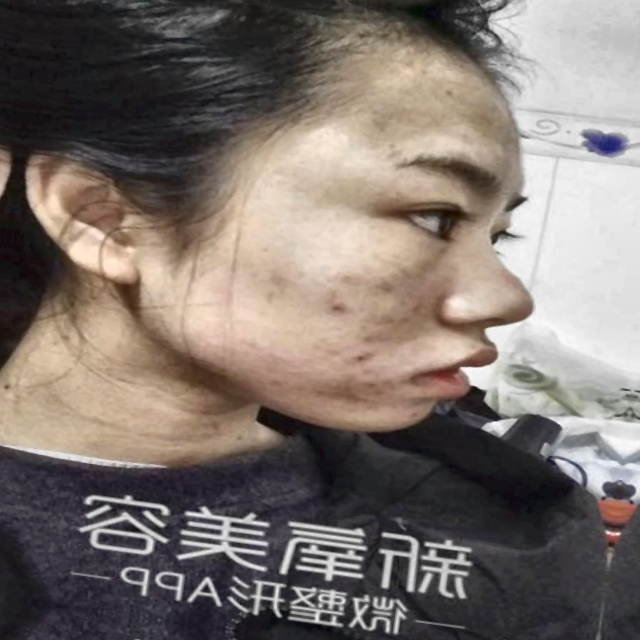comedone: (313, 297, 353, 323), (342, 342, 372, 371)
